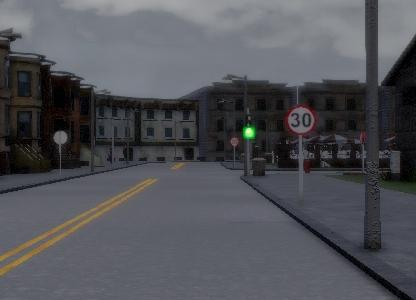Speed_30: (286, 104, 318, 137)
